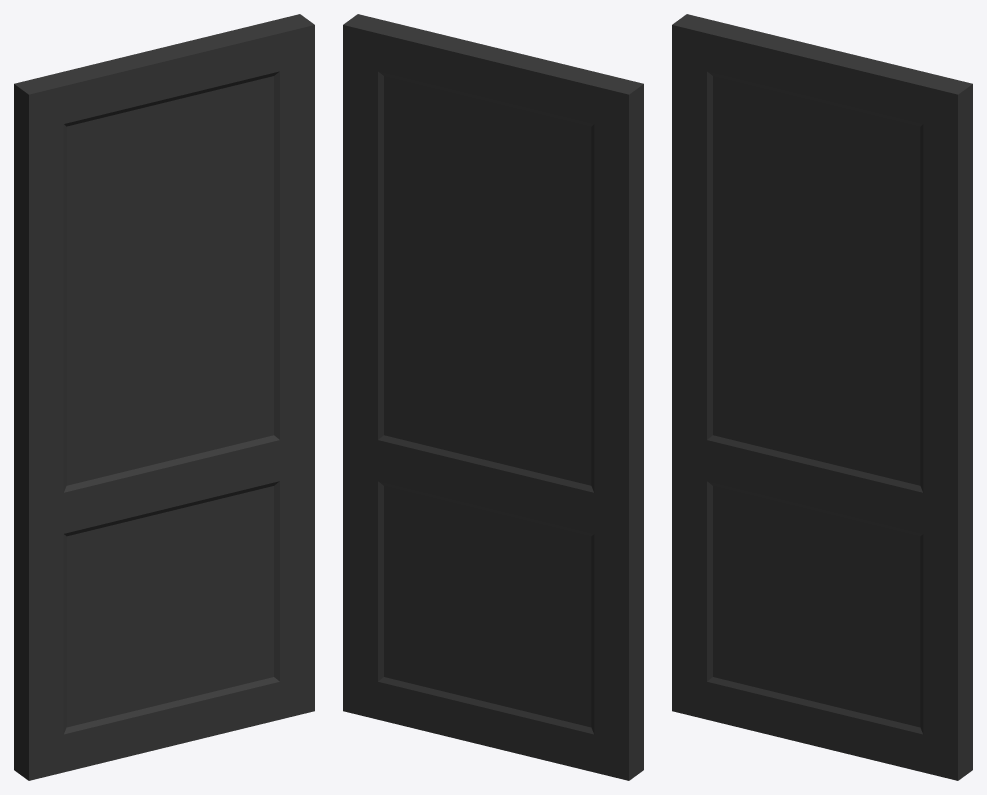
Rendered from Door3_C2.fbx.
The picture shows the model from 3 angles, left to right: view 1: azimuth 30°, elevation 25°; view 2: azimuth 150°, elevation 25°; view 3: azimuth 330°, elevation 25°; orthographic projection.
Parts seen in each view (by area): view 1: Door3_C2; view 2: Door3_C2; view 3: Door3_C2.
Part boxes in pixels (x1,y1,x2,y2): Door3_C2: [14, 14, 314, 780]; Door3_C2: [343, 14, 643, 780]; Door3_C2: [672, 14, 972, 780].
Bounding box in the file's own units: 89 × 204 × 8.
